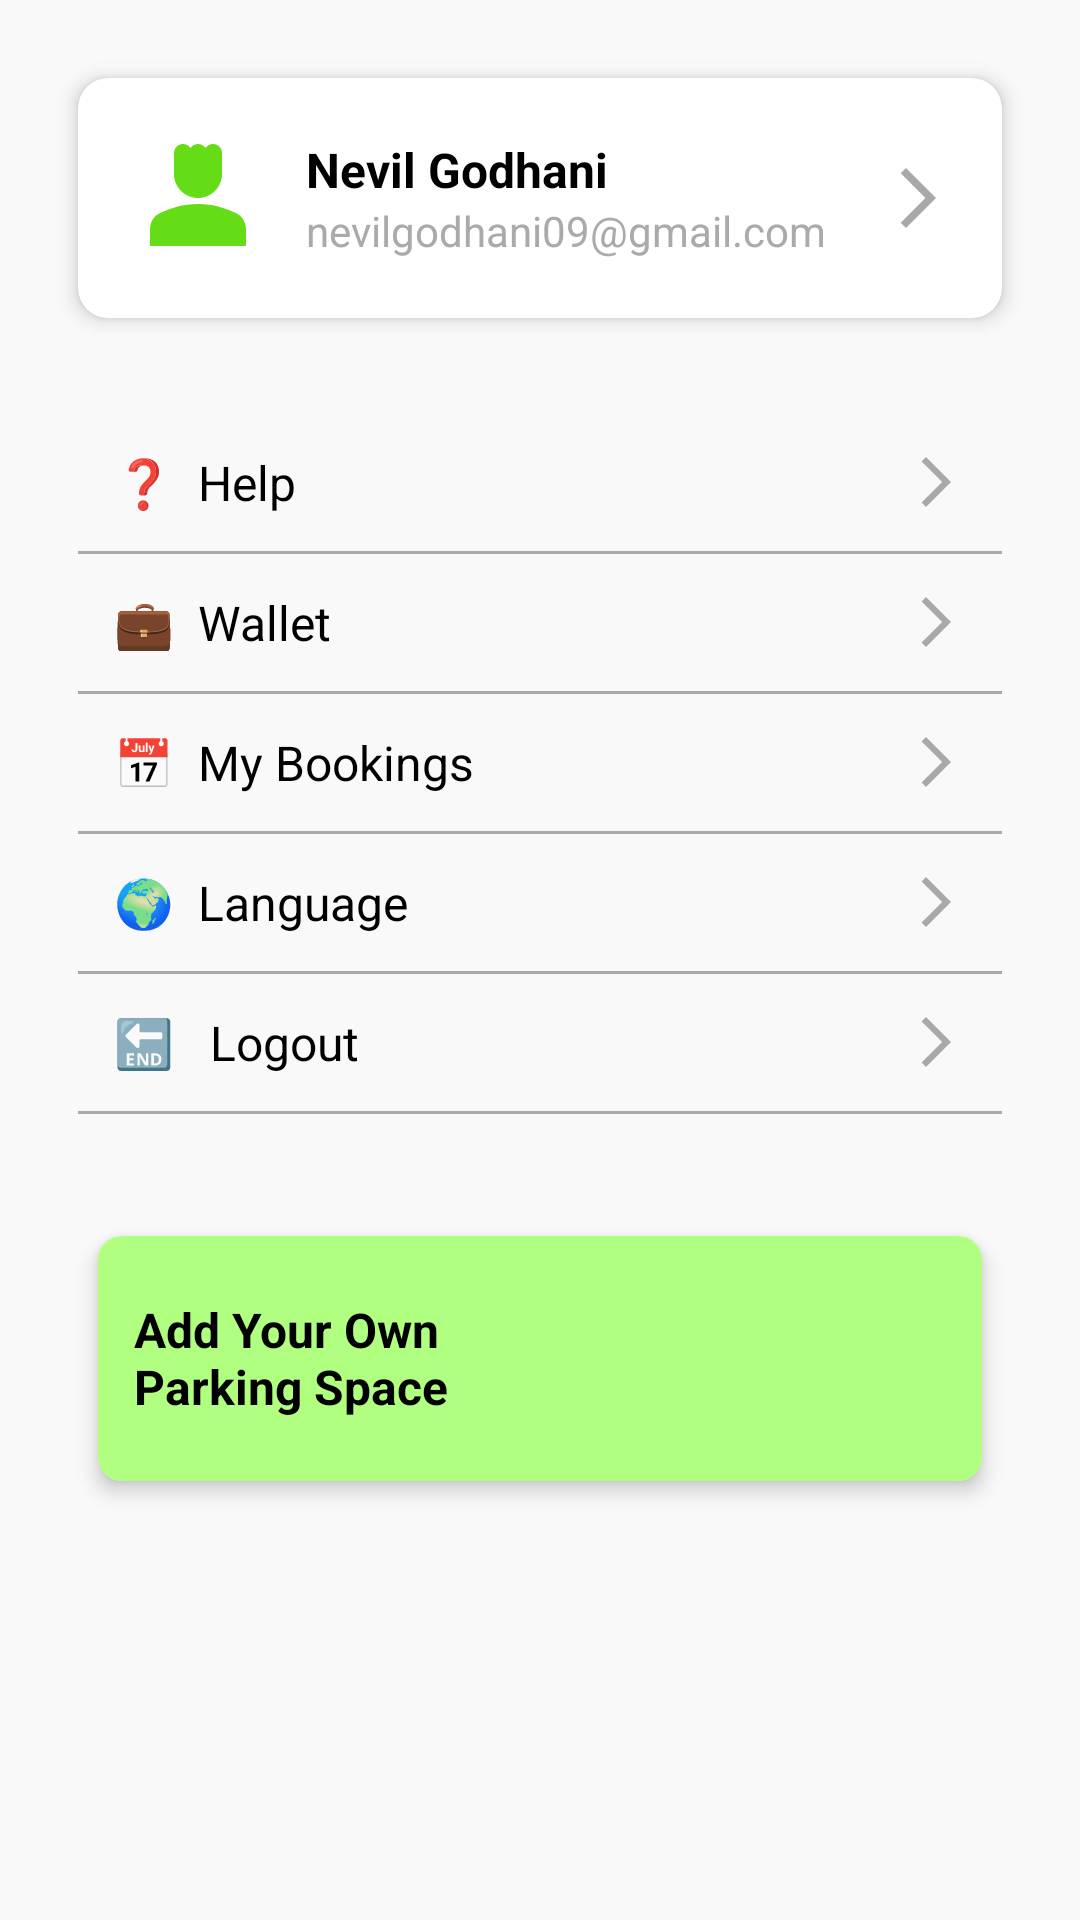

Screen size 1080 x 1920. Icon name, then its box in pixels as BBox(x1, y1, x2, y2):
arrow forward: BBox(901, 168, 936, 228)
person: BBox(150, 144, 246, 246)
